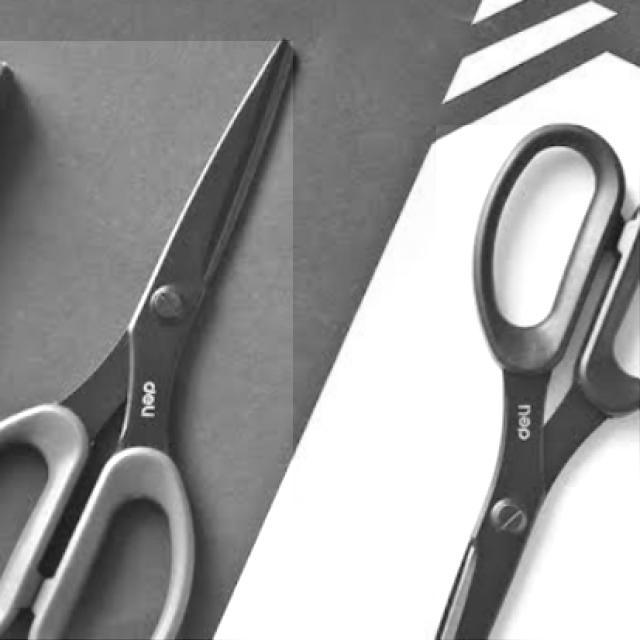tesoura: (0, 42, 293, 639), (437, 125, 639, 639)
